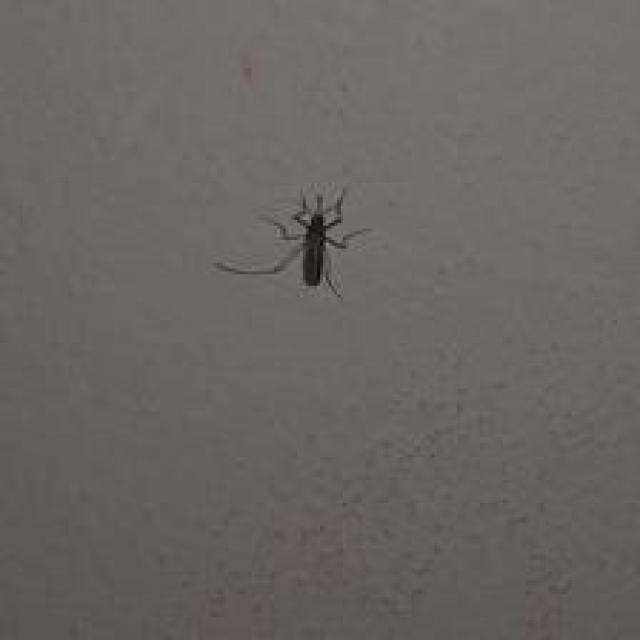Culex: (213, 182, 373, 302)
